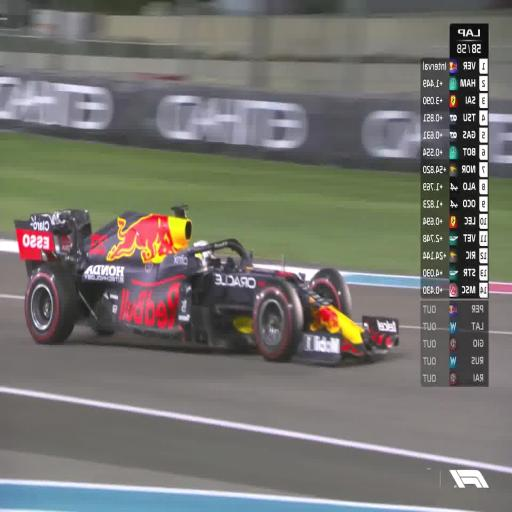f1_car: (15, 205, 398, 364)
